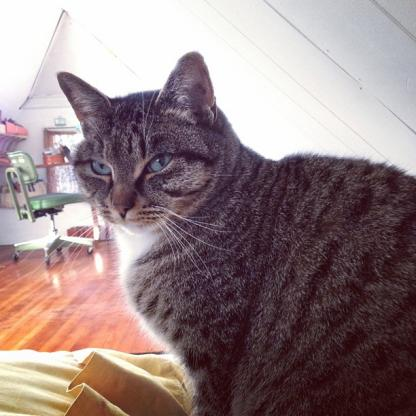Target: (52, 50, 416, 416)
